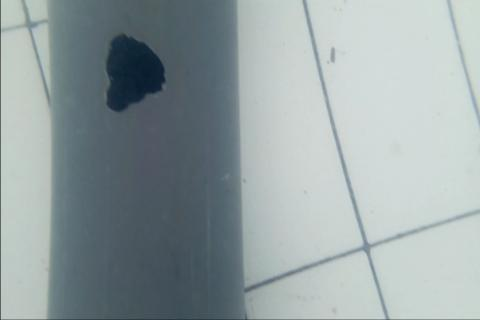kebocoran: (103, 31, 168, 113)
